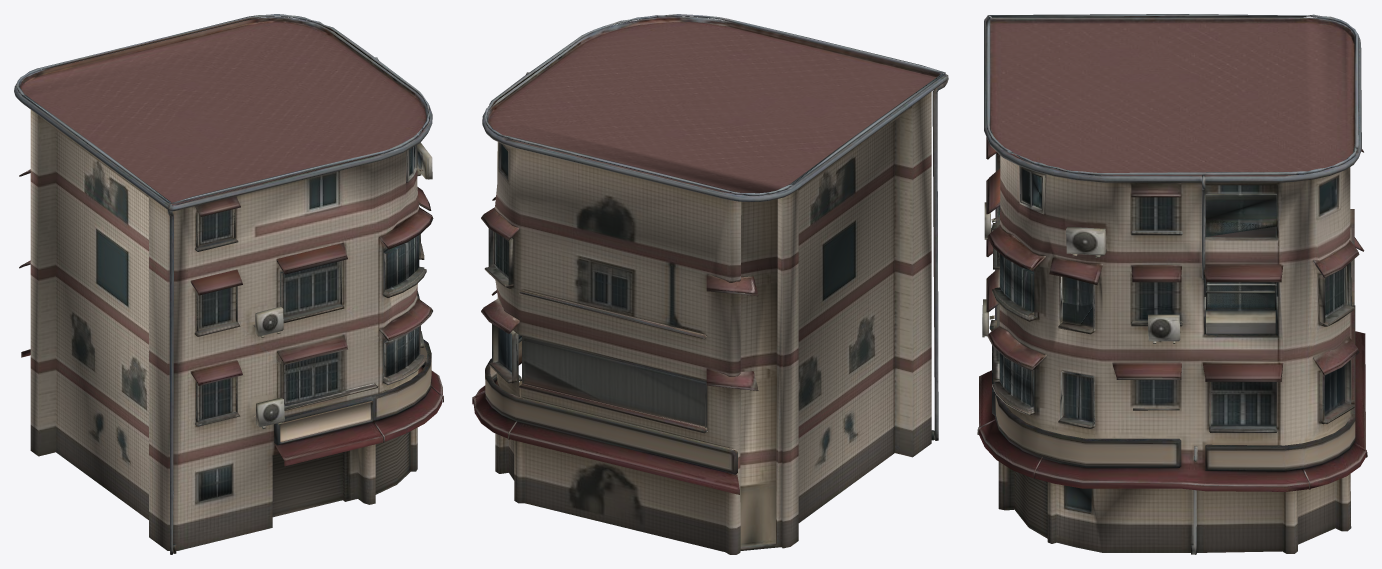
Rendered from facade-corner.glb.
The picture shows the model from 3 angles, left to right: view 1: azimuth 30°, elevation 25°; view 2: azimuth 150°, elevation 25°; view 3: azimuth 270°, elevation 25°; orthographic projection. The views are drawn at different scales.
Visible parts, largest first — view 1: tripo_node_fc3d812c-dbda-400b-936b-e22de9cc6716; view 2: tripo_node_fc3d812c-dbda-400b-936b-e22de9cc6716; view 3: tripo_node_fc3d812c-dbda-400b-936b-e22de9cc6716.
Boxes of the visible parts, x1,y1,x2,y2 form: tripo_node_fc3d812c-dbda-400b-936b-e22de9cc6716: (14,14,443,554); tripo_node_fc3d812c-dbda-400b-936b-e22de9cc6716: (472,14,948,554); tripo_node_fc3d812c-dbda-400b-936b-e22de9cc6716: (977,14,1367,554).
Size of the model in its own units: 0.9316 by 0.998 by 0.9199.
Materials: 1 (1 with a texture image).
